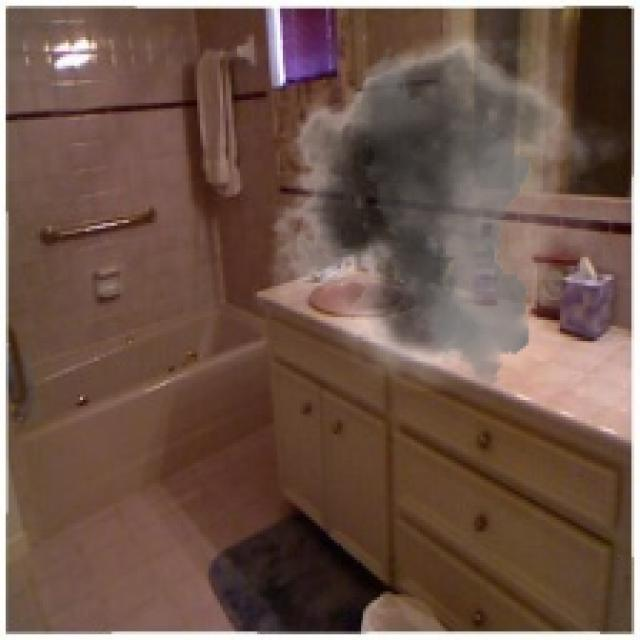smoke: (252, 14, 632, 392)
